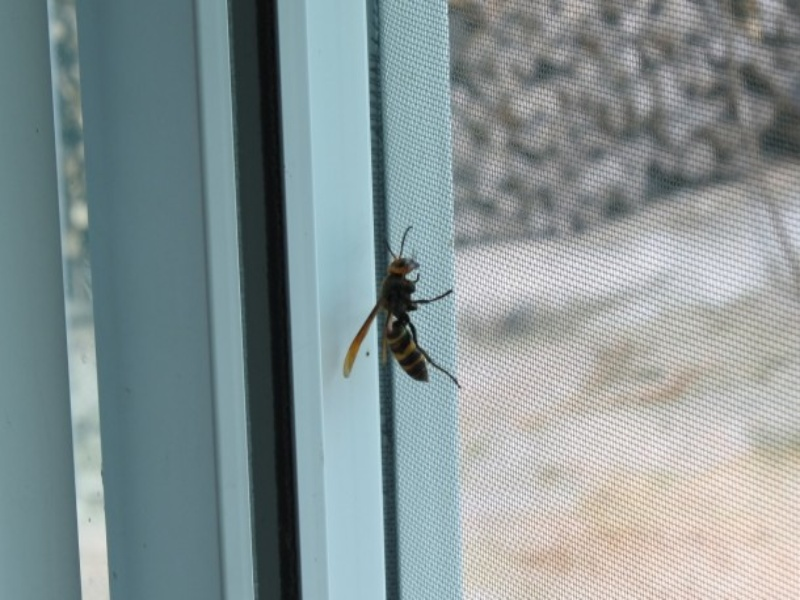asian_giant_hornet: (371, 252, 431, 386)
